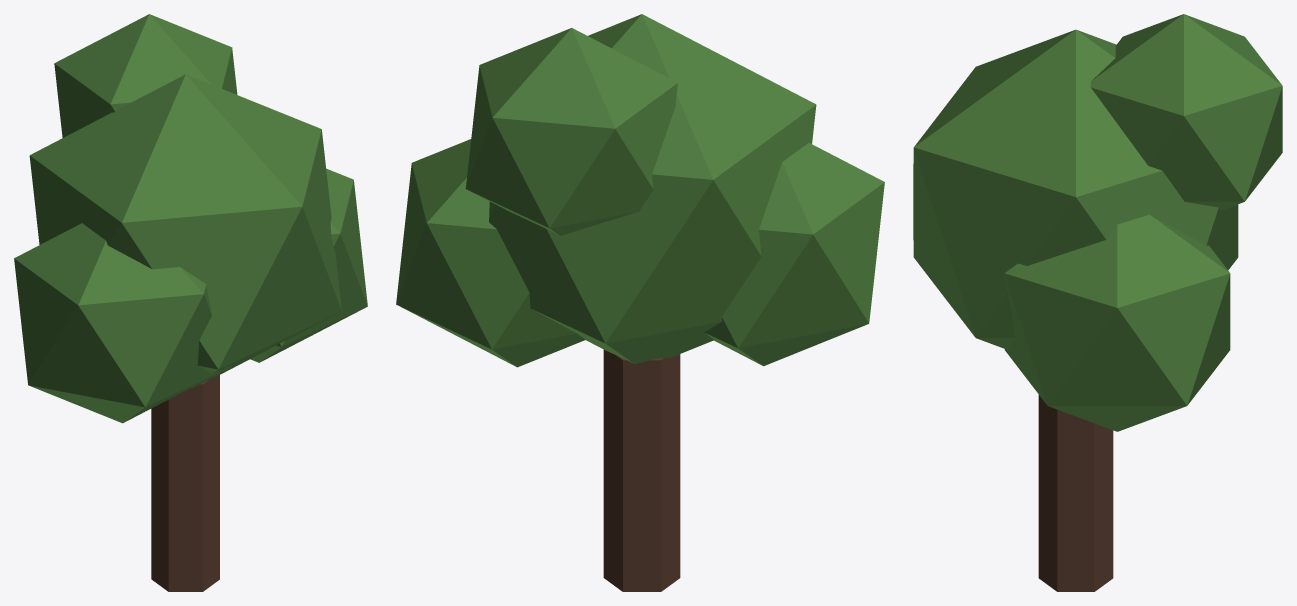
The model's file is beech_tree.glb.
3 views of the same model, side by side, from view 1: azimuth 30°, elevation 25°; view 2: azimuth 150°, elevation 25°; view 3: azimuth 270°, elevation 25° (orthographic). The views are drawn at different scales.
Visible parts, largest first — view 1: CLBeech; view 2: CLBeech; view 3: CLBeech.
Part boxes in pixels (x1=…): CLBeech: x1=14, y1=14, x2=367, y2=591; CLBeech: x1=396, y1=14, x2=884, y2=591; CLBeech: x1=913, y1=14, x2=1282, y2=591.
Bounding box in the file's own units: 0.5562 × 0.76 × 0.4452.
